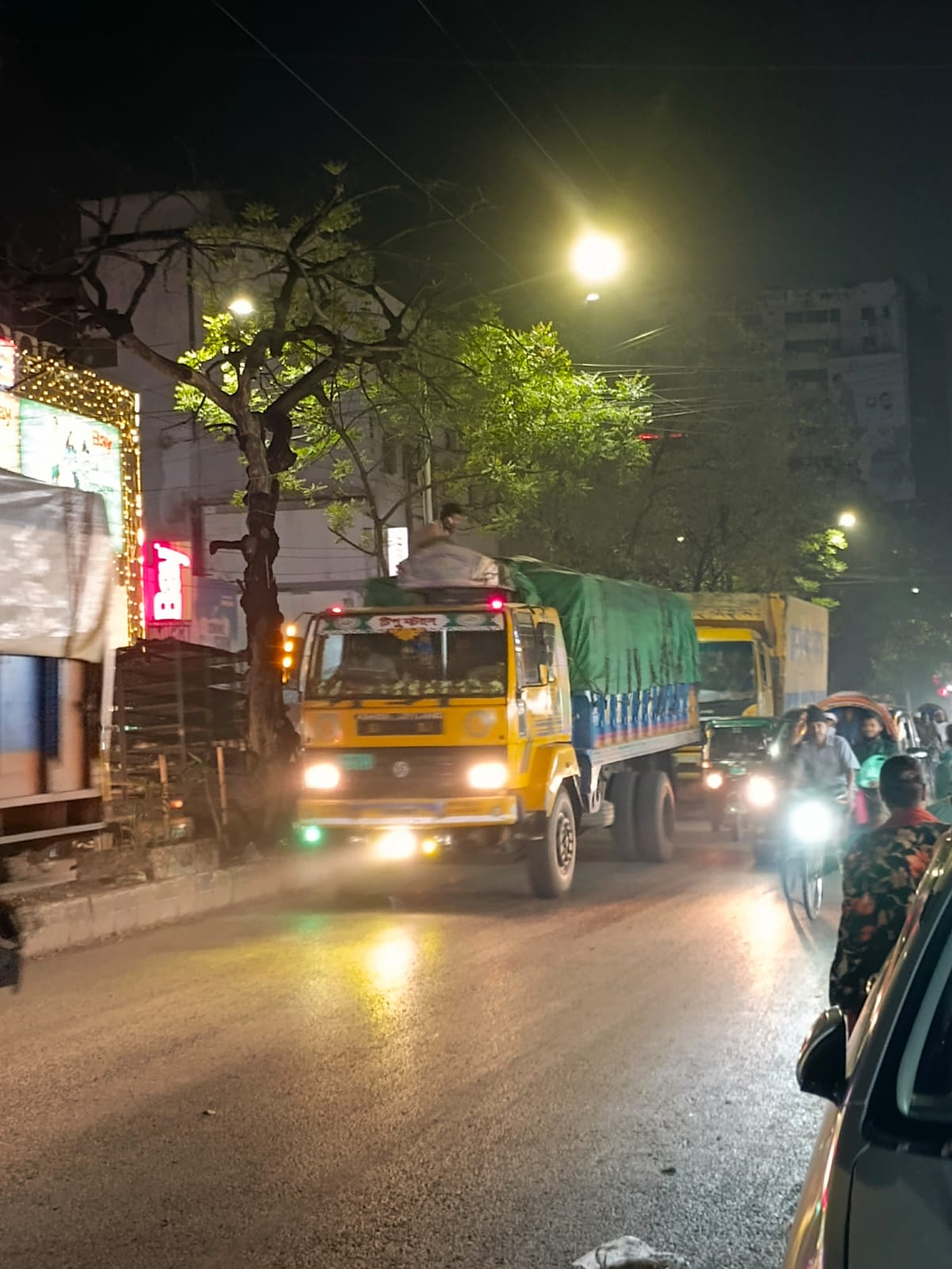Truck: (274, 553, 701, 920), (668, 580, 833, 746)
